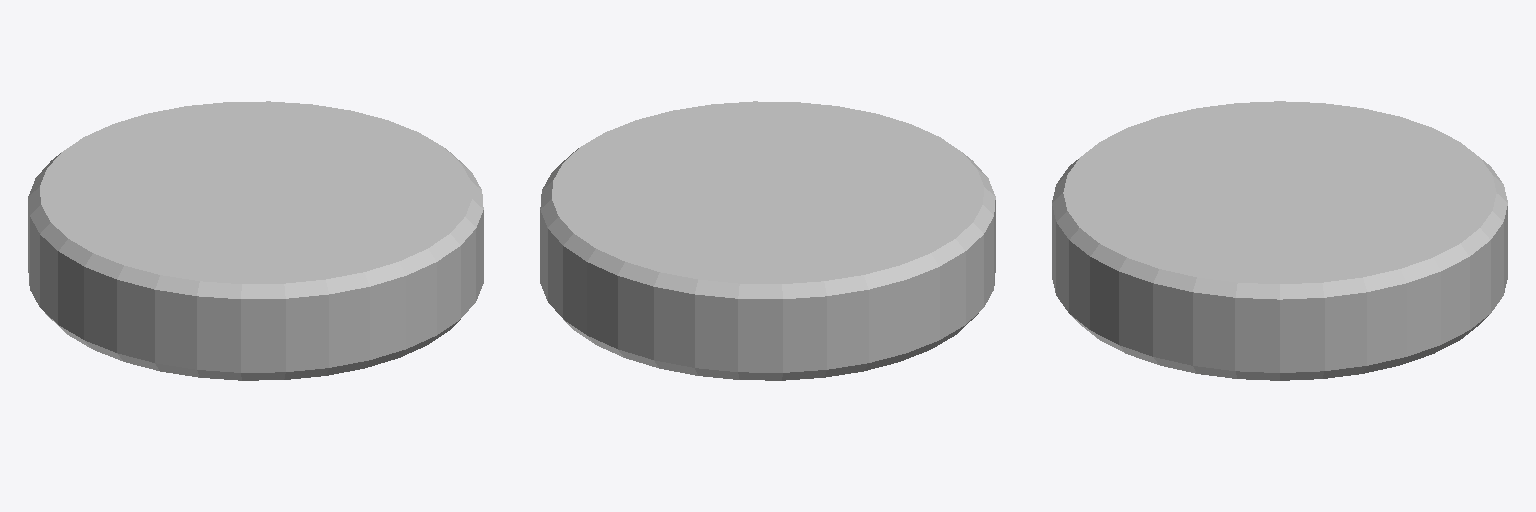
Rendered from icePlatform.obj.
The picture shows the model from 3 angles: view 1: azimuth 30°, elevation 25°; view 2: azimuth 150°, elevation 25°; view 3: azimuth 270°, elevation 25°; orthographic projection.
Visible parts, largest first — view 1: Cylinder; view 2: Cylinder; view 3: Cylinder.
Boxes of the visible parts, box(x1,y1,x2,y2) form: Cylinder: box(28, 101, 483, 380); Cylinder: box(540, 101, 995, 380); Cylinder: box(1052, 101, 1507, 380).
Size of the model in its own units: 2 by 0.6108 by 2.